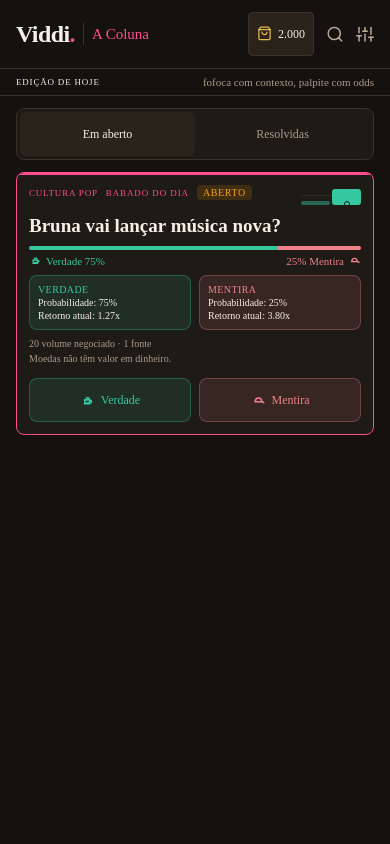
it: open feed cards show odds before trading and cannot submit a free vote
The image size is (390, 844).
Check: the text "Bruna vai lançar música nova?" is shown, box [29,215,281,236]
Check: the text "VERDADE" is shown, box [38,284,89,295]
What coordinates should you click on to do the following:
click the button with aria-label "Escolher Verdade"
I would click on:
 (110, 400)
Its box is [29,378,191,422].
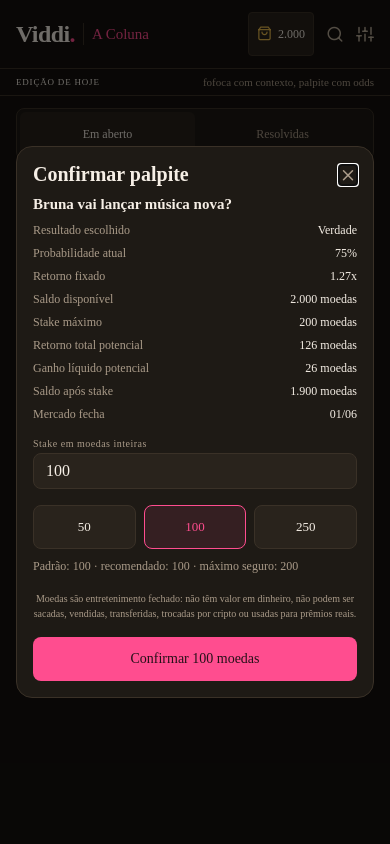
Check: the text "Confirmar palpite" is shown, box [33,163,189,186]
